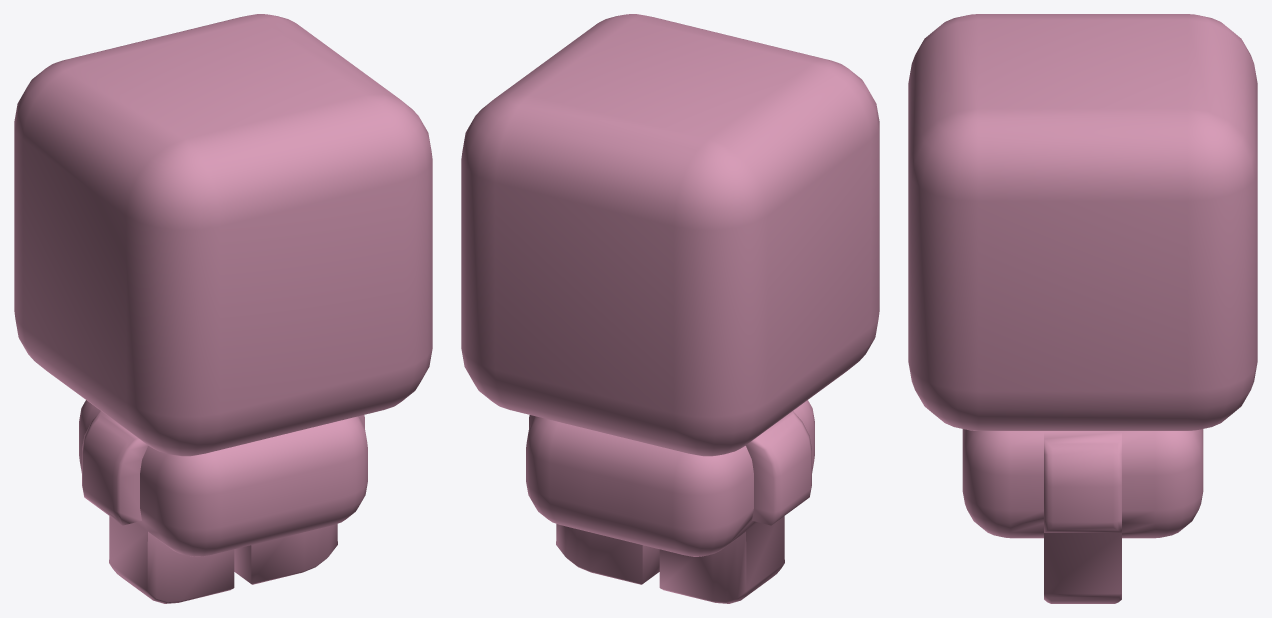
File: body.glb
3 renders of one model, left to right at view 1: azimuth 30°, elevation 25°; view 2: azimuth 150°, elevation 25°; view 3: azimuth 270°, elevation 25°, orthographic.
Visible parts, largest first — view 1: body; view 2: body; view 3: body.
Boxes of the visible parts, x1,y1,x2,y2 form: body: [14, 14, 432, 603]; body: [461, 14, 879, 603]; body: [908, 14, 1257, 603].
Size of the model in its own units: 39.78 by 63.45 by 39.78.
Materials: 1 (1 with a texture image).
